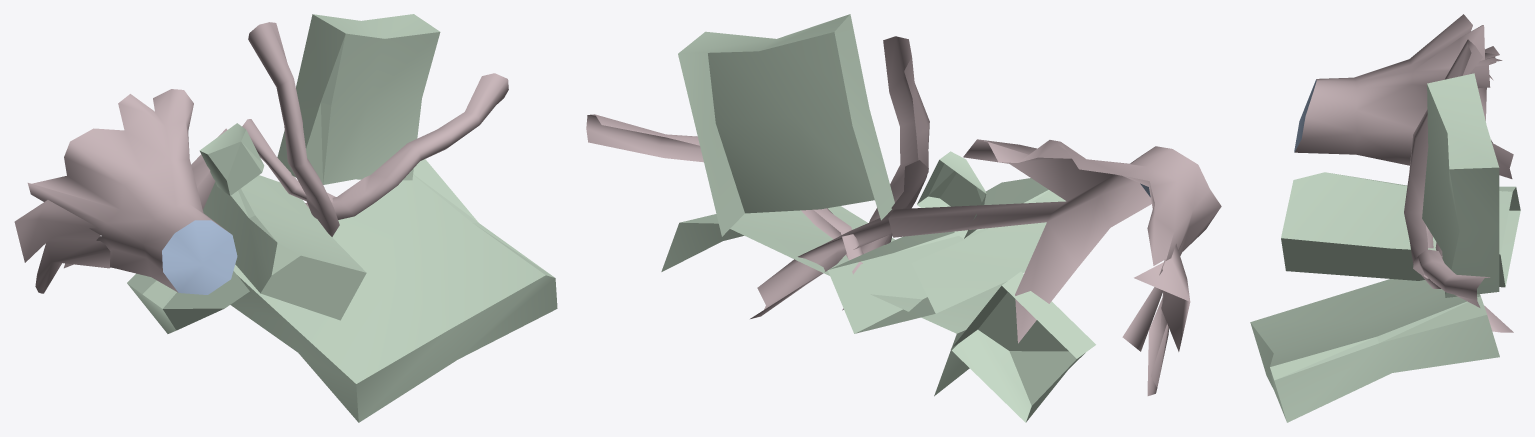
3 views of the same model, side by side, from view 1: azimuth 30°, elevation 25°; view 2: azimuth 150°, elevation 25°; view 3: azimuth 270°, elevation 25° (orthographic). The views are drawn at different scales.
Parts seen in each view (by area): view 1: Object13; view 2: Object13; view 3: Object13.
Part boxes in pixels (x1,y1,x2,y2): Object13: [14, 14, 557, 422]; Object13: [586, 14, 1221, 422]; Object13: [1250, 14, 1520, 422].
Bounding box in the file's own units: 19319 × 12331 × 9003.
